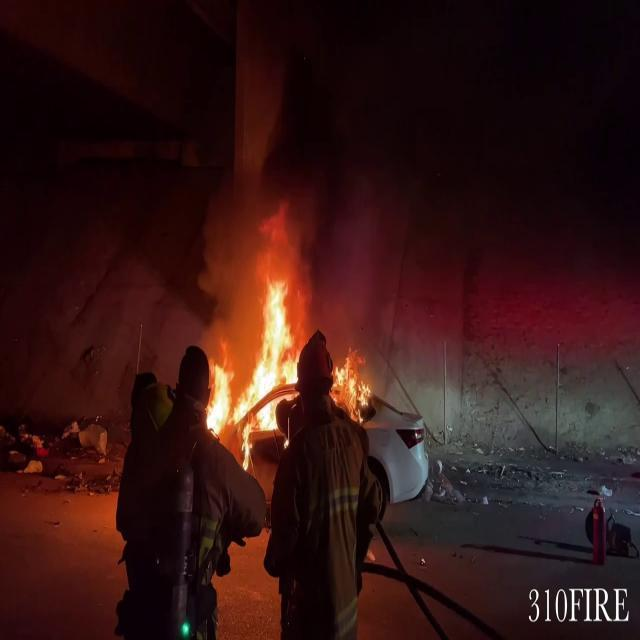Fire: (204, 265, 302, 454), (330, 348, 374, 424)
Smoke: (197, 98, 418, 312)
